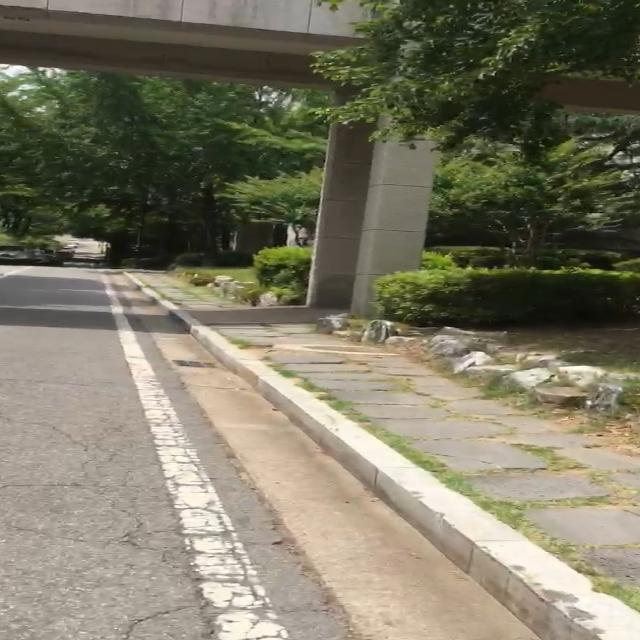obstacle: (0, 241, 72, 266)
road: (0, 269, 543, 640)
sidewalk: (124, 269, 640, 640)
